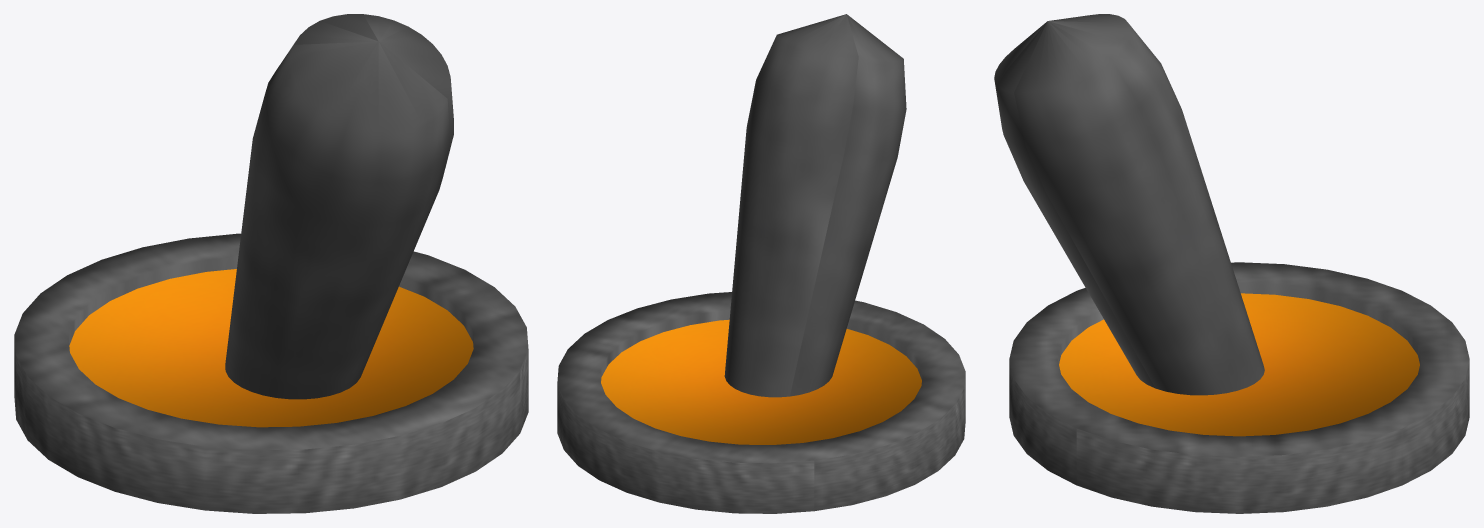
The model's file is Switch - Off.obj.
The picture shows the model from 3 angles, left to right: view 1: azimuth 30°, elevation 25°; view 2: azimuth 150°, elevation 25°; view 3: azimuth 270°, elevation 25°; orthographic projection. The views are drawn at different scales.
Parts seen in each view (by area): view 1: Cylinder; view 2: Cylinder; view 3: Cylinder.
Part boxes in pixels (box(x1,y1,x2,y2)): Cylinder: box(14, 14, 528, 513); Cylinder: box(557, 14, 965, 513); Cylinder: box(994, 14, 1469, 513).
Size of the model in its own units: 6.04 by 5.72 by 6.24.
